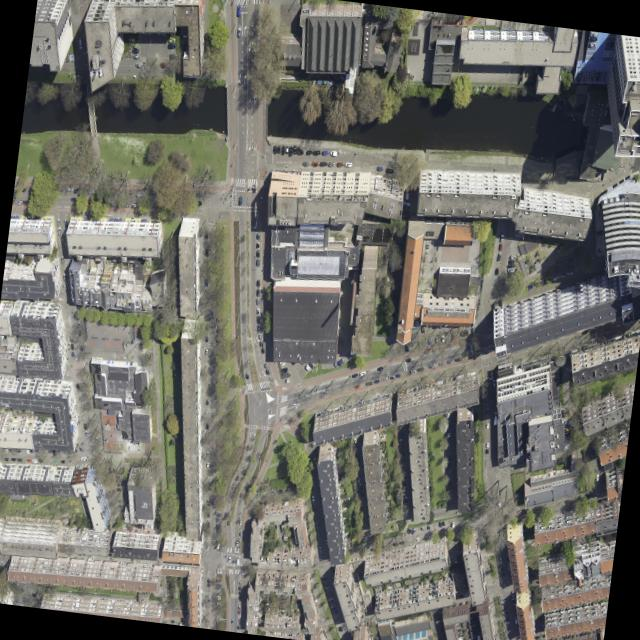large-vehicle: (493, 411, 499, 425)
small-vehicle: (304, 363, 312, 372), (136, 190, 145, 197), (78, 37, 83, 49), (386, 167, 394, 174), (167, 43, 176, 49), (25, 445, 30, 455), (590, 70, 595, 80), (526, 283, 533, 290), (148, 190, 156, 196), (358, 490, 364, 498), (403, 200, 411, 206), (346, 352, 352, 360), (577, 71, 581, 83), (195, 192, 203, 198), (606, 41, 614, 47), (52, 448, 57, 457), (595, 71, 600, 80), (28, 191, 35, 197), (544, 277, 551, 283), (170, 53, 177, 59), (73, 188, 80, 194), (402, 492, 408, 499), (340, 357, 346, 364), (308, 362, 314, 369), (330, 150, 337, 156), (359, 370, 366, 376), (553, 274, 559, 281), (417, 366, 424, 372), (603, 261, 610, 267), (596, 230, 603, 236), (589, 41, 596, 47), (566, 270, 573, 276), (57, 226, 61, 236), (114, 190, 122, 195), (131, 48, 139, 53), (237, 5, 241, 15), (237, 27, 241, 37), (405, 190, 409, 200), (313, 150, 321, 155), (344, 161, 352, 166), (583, 72, 587, 82), (590, 31, 598, 36), (62, 272, 66, 281), (60, 255, 64, 264), (4, 444, 8, 453), (28, 445, 32, 454), (80, 440, 86, 446), (85, 201, 91, 207), (281, 145, 285, 154), (349, 350, 355, 356), (352, 372, 358, 378), (377, 365, 383, 371), (377, 165, 383, 171), (447, 358, 453, 364), (455, 356, 461, 362), (282, 370, 288, 376), (497, 499, 501, 508), (505, 628, 511, 634), (560, 272, 566, 278), (19, 586, 24, 593), (19, 187, 26, 192), (70, 197, 77, 202), (22, 200, 29, 205), (15, 200, 22, 205), (135, 62, 142, 67), (132, 53, 139, 58), (80, 456, 87, 461), (168, 37, 175, 42), (87, 188, 94, 193), (356, 473, 361, 480), (402, 486, 407, 493), (401, 480, 406, 487), (400, 456, 405, 463), (398, 431, 403, 438), (320, 161, 327, 166), (329, 567, 334, 574), (365, 381, 372, 386), (438, 361, 445, 366), (590, 36, 597, 41), (445, 425, 450, 432), (446, 476, 451, 483), (446, 457, 451, 464), (501, 612, 508, 617), (69, 335, 73, 343), (77, 320, 81, 328), (64, 220, 68, 228), (56, 218, 60, 226), (62, 447, 66, 455), (10, 444, 14, 452), (7, 444, 11, 452), (75, 382, 79, 390), (17, 445, 21, 453), (497, 253, 501, 261), (14, 445, 18, 453), (34, 445, 38, 453), (31, 446, 35, 454), (257, 324, 261, 332), (204, 230, 208, 238), (266, 368, 270, 376), (432, 322, 436, 330), (421, 325, 425, 333), (485, 402, 489, 410), (412, 527, 416, 535), (128, 189, 134, 194), (31, 592, 36, 598), (24, 583, 29, 589), (16, 457, 22, 462), (32, 458, 38, 463), (510, 254, 516, 259), (132, 42, 138, 47), (160, 62, 166, 67), (78, 445, 83, 451), (216, 338, 222, 343), (289, 146, 292, 156), (533, 282, 539, 287), (403, 498, 408, 504), (357, 479, 362, 485), (399, 438, 404, 444), (399, 444, 404, 450), (281, 367, 287, 372), (303, 161, 309, 166), (312, 161, 318, 166), (328, 161, 334, 166), (354, 384, 360, 389), (428, 534, 434, 539), (195, 201, 201, 206), (384, 372, 390, 377), (381, 376, 387, 381), (395, 373, 401, 378), (564, 420, 570, 425), (565, 426, 571, 431), (564, 432, 570, 437), (596, 498, 602, 503), (445, 413, 450, 419), (501, 607, 507, 612), (500, 599, 506, 604), (603, 497, 609, 502), (393, 541, 399, 546), (578, 496, 584, 501), (564, 499, 570, 504), (603, 266, 609, 271), (70, 343, 74, 350), (67, 448, 71, 455), (508, 263, 515, 267), (507, 268, 514, 272), (47, 447, 51, 454), (245, 372, 249, 379), (264, 362, 268, 369), (211, 294, 215, 301), (285, 146, 289, 153), (235, 474, 239, 481), (400, 450, 404, 457), (353, 443, 357, 450), (306, 150, 313, 154), (334, 361, 338, 368), (322, 150, 329, 154), (451, 332, 455, 339), (73, 446, 77, 453), (0, 559, 4, 566), (446, 439, 450, 446), (447, 463, 451, 470), (589, 256, 593, 263), (591, 449, 595, 456), (252, 184, 255, 193), (297, 146, 300, 155), (293, 145, 296, 154), (15, 599, 20, 604), (60, 459, 65, 464), (68, 459, 73, 464), (321, 577, 326, 582), (107, 552, 112, 557), (324, 584, 329, 589), (310, 563, 315, 568), (328, 596, 333, 601), (388, 374, 393, 379), (410, 369, 415, 374), (429, 364, 434, 369), (504, 620, 509, 625), (370, 547, 375, 552), (399, 540, 404, 545), (415, 536, 420, 541), (541, 633, 546, 638), (507, 272, 513, 276), (78, 328, 81, 336), (77, 313, 80, 321), (57, 446, 60, 454), (83, 423, 87, 429), (10, 457, 16, 461), (38, 459, 44, 463), (117, 504, 123, 508), (117, 499, 123, 503), (499, 243, 502, 251), (508, 259, 514, 263), (500, 234, 503, 242), (84, 430, 88, 436), (109, 203, 115, 207), (174, 306, 180, 310), (38, 446, 41, 454), (115, 473, 121, 477), (108, 467, 114, 471), (88, 403, 92, 409), (205, 248, 208, 256), (210, 499, 214, 505), (238, 492, 242, 498), (257, 316, 260, 324), (239, 196, 242, 204), (273, 145, 276, 153), (463, 526, 469, 530), (331, 608, 337, 612), (353, 437, 357, 443), (358, 485, 362, 491), (337, 625, 343, 629), (337, 360, 341, 366), (279, 361, 285, 365), (337, 162, 343, 166), (349, 630, 353, 636), (231, 558, 235, 564), (439, 321, 442, 329), (428, 337, 431, 345), (441, 334, 444, 342), (405, 344, 408, 352), (374, 379, 380, 383), (448, 486, 452, 492), (491, 371, 494, 379), (315, 472, 319, 478), (446, 432, 450, 438), (514, 616, 517, 624), (495, 268, 498, 275), (162, 28, 165, 35), (85, 381, 88, 388), (205, 349, 208, 356), (205, 335, 208, 342), (256, 280, 259, 287), (256, 250, 259, 257), (261, 347, 264, 354), (259, 333, 262, 340), (257, 308, 260, 315), (256, 298, 259, 305), (256, 259, 259, 266), (256, 242, 259, 249), (256, 289, 259, 296), (277, 146, 280, 153), (260, 340, 263, 347), (205, 279, 208, 286), (246, 444, 249, 451), (427, 523, 430, 530), (435, 337, 438, 344), (465, 329, 468, 336), (461, 330, 464, 337), (499, 557, 502, 564), (492, 379, 495, 386), (472, 327, 475, 334), (506, 557, 509, 564), (507, 563, 510, 570), (541, 625, 544, 632), (470, 525, 475, 529), (26, 458, 31, 462), (53, 459, 58, 463), (124, 203, 129, 207), (131, 203, 135, 208), (216, 602, 221, 606), (116, 476, 121, 480), (216, 606, 221, 610), (216, 518, 221, 522), (216, 595, 221, 599), (216, 578, 221, 582), (215, 510, 220, 514), (4, 457, 9, 461), (217, 328, 222, 332), (217, 325, 222, 329), (116, 479, 121, 483), (117, 487, 122, 491), (217, 444, 222, 448), (217, 492, 222, 496), (215, 462, 220, 466), (406, 358, 411, 362), (458, 594, 463, 598), (328, 599, 333, 603), (359, 614, 363, 619), (461, 589, 466, 593), (504, 618, 509, 622), (536, 580, 541, 584), (535, 635, 540, 639), (585, 495, 590, 499), (584, 501, 589, 505), (17, 583, 20, 589), (71, 351, 74, 357), (80, 345, 83, 351), (50, 447, 53, 453), (1, 445, 4, 451), (319, 546, 322, 552), (144, 28, 147, 34), (205, 324, 208, 330), (228, 556, 231, 562), (216, 450, 222, 453), (206, 451, 209, 457), (313, 507, 316, 513), (314, 516, 317, 522), (315, 522, 318, 528), (317, 533, 320, 539), (300, 148, 303, 154), (236, 558, 239, 564), (421, 526, 424, 532), (239, 520, 242, 526), (407, 528, 410, 534), (486, 442, 489, 448), (511, 591, 514, 597), (595, 467, 598, 473), (313, 457, 316, 463), (501, 572, 504, 578), (280, 488, 283, 494), (319, 499, 322, 505), (312, 449, 315, 455), (311, 442, 314, 448), (271, 489, 274, 495), (277, 488, 280, 494), (285, 487, 288, 493), (513, 609, 516, 615), (217, 532, 221, 536), (217, 513, 221, 517), (212, 308, 214, 316), (532, 513, 536, 517), (338, 628, 342, 632), (596, 473, 598, 481), (380, 545, 384, 549), (207, 597, 210, 602), (216, 586, 221, 589), (216, 583, 221, 586), (216, 529, 221, 532), (216, 524, 221, 527), (116, 483, 121, 486), (206, 462, 209, 467), (322, 519, 325, 524), (325, 539, 328, 544), (276, 568, 281, 571), (332, 611, 337, 614), (238, 591, 241, 596), (238, 586, 241, 591), (410, 528, 413, 533), (442, 521, 445, 526), (512, 600, 515, 605), (537, 627, 540, 632), (320, 506, 323, 511), (148, 28, 150, 35), (486, 410, 488, 417), (452, 521, 454, 528), (158, 28, 160, 34), (95, 436, 97, 442), (207, 522, 209, 528), (170, 620, 174, 623), (257, 233, 259, 239), (206, 423, 208, 429), (237, 610, 240, 614), (206, 399, 208, 405), (486, 423, 488, 429), (239, 595, 241, 601), (231, 618, 233, 624), (455, 591, 459, 594), (500, 568, 503, 572), (312, 495, 314, 501), (439, 521, 441, 527), (486, 448, 488, 454), (216, 600, 221, 602), (207, 501, 209, 506), (207, 512, 209, 517), (227, 520, 229, 525), (207, 578, 209, 583), (237, 625, 239, 630), (236, 541, 238, 546), (216, 527, 220, 529), (207, 583, 209, 587), (238, 605, 240, 609), (239, 532, 241, 536), (239, 581, 241, 585)
